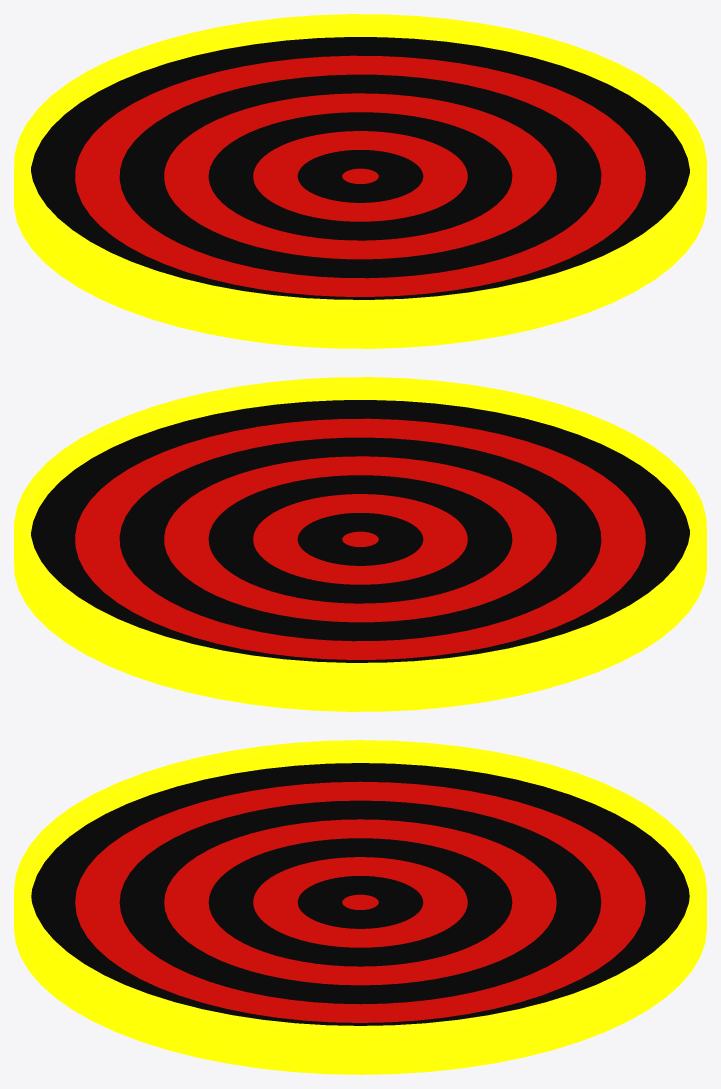
The model's file is LandingPad.fbx.
3 views of the same model, one above another, from view 1: azimuth 30°, elevation 25°; view 2: azimuth 150°, elevation 25°; view 3: azimuth 270°, elevation 25° (orthographic).
Visible parts, largest first — view 1: LaunchPad; view 2: LaunchPad; view 3: LaunchPad.
Part boxes in pixels (x1,y1,x2,y2): LaunchPad: [14, 14, 706, 348]; LaunchPad: [14, 377, 706, 711]; LaunchPad: [14, 740, 706, 1074].
Bounding box in the file's own units: 2 × 0.1413 × 2.
